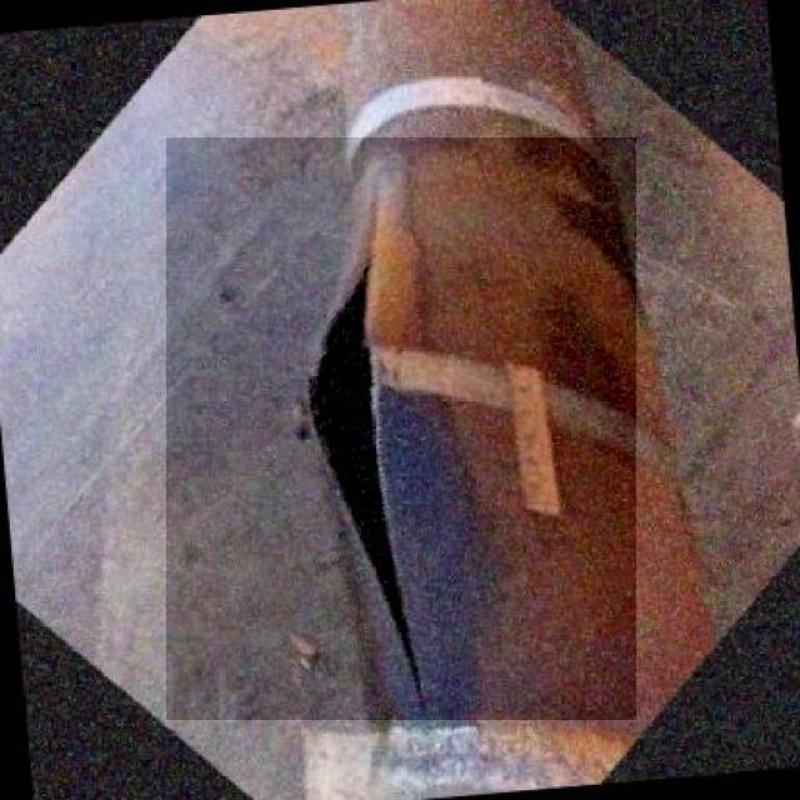Fracture: (278, 219, 464, 733)
